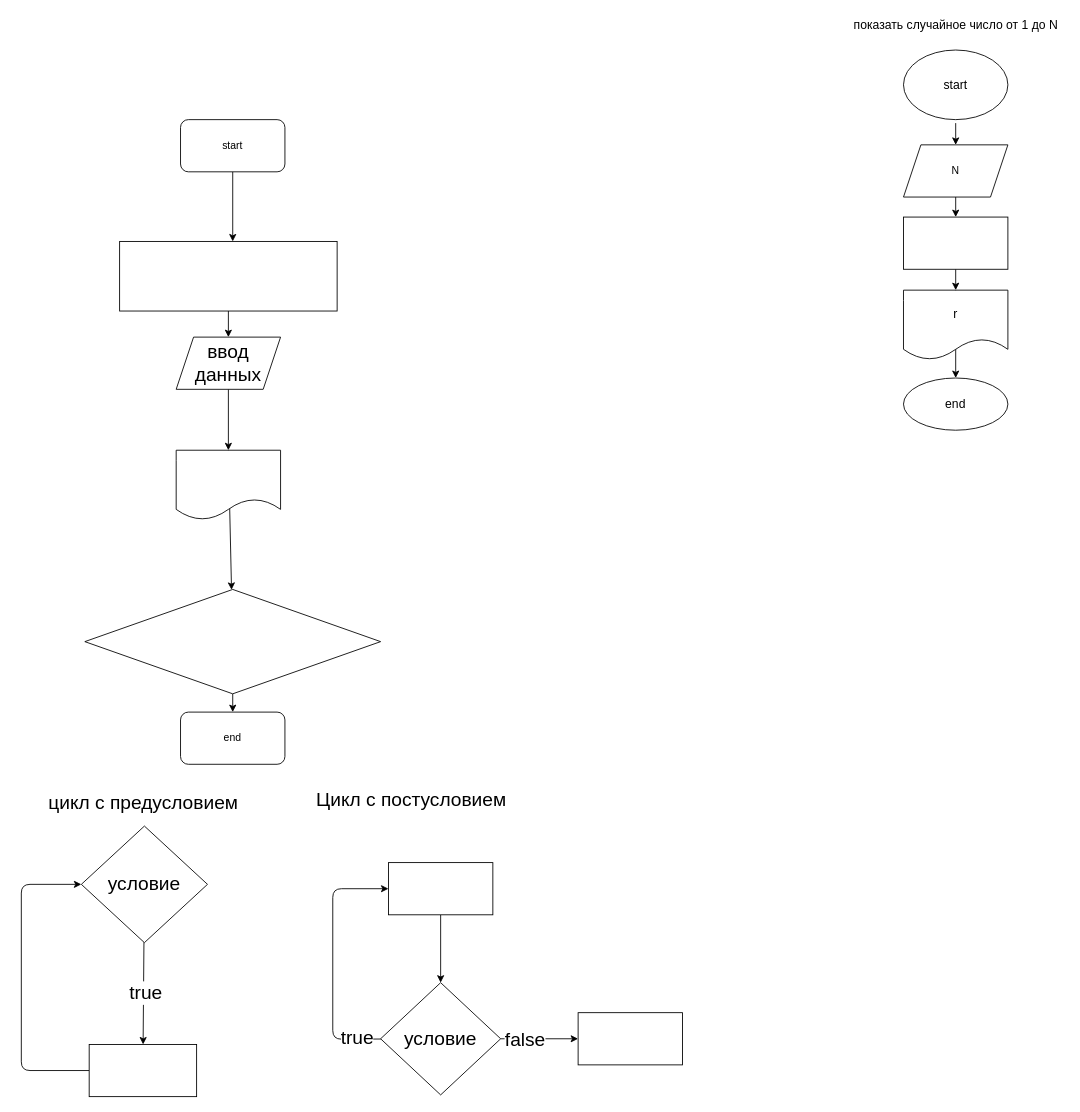
The diagram is 1080 pixels wide and 1112 high, and some of its shapes have lost their labels. The centre of each missing label's shape, as x and y in pixels:
"count = 0 res = 1 * Sqrt(2)" goes at pixel 228 276.
"r = random(1,N)" goes at pixel 955 242.
"вывод данных" goes at pixel 228 484.
